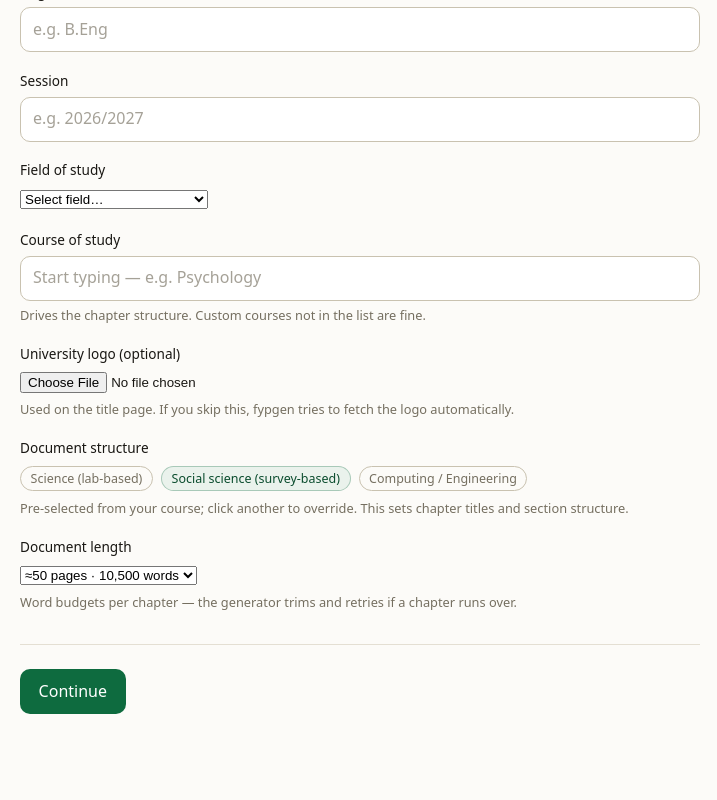
ProjectSetup › blocks advance with an empty topic
The width and height of the screenshot is (717, 800).
(page scrolled)
Click the button "Continue": [73, 692] box x1=20 y1=669 x2=126 y2=714
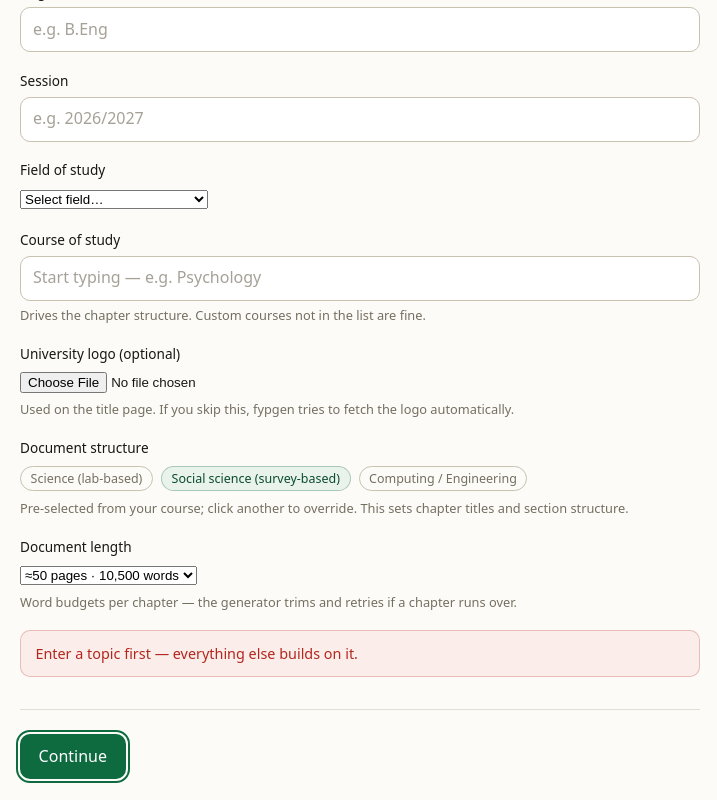
expect the text "Enter a topic first — everything else builds on it." is shown: met, box x1=20 y1=630 x2=700 y2=677
